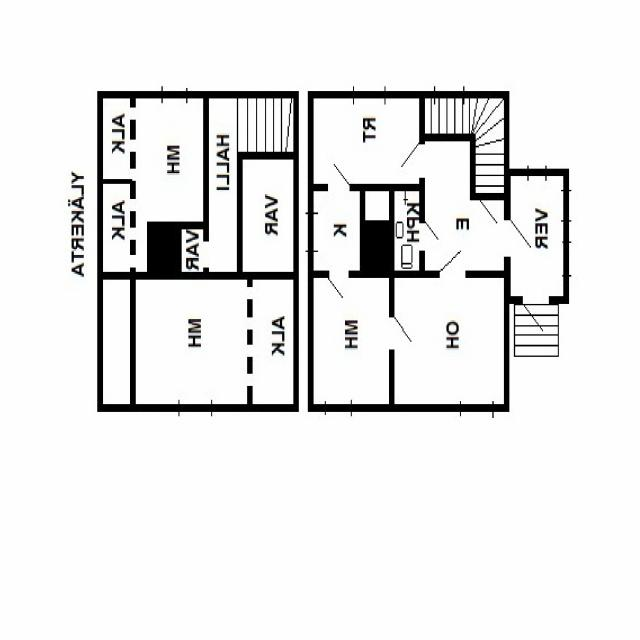door: (504, 220, 536, 257), (523, 296, 550, 339), (439, 235, 466, 278), (394, 142, 425, 178), (390, 317, 420, 350), (480, 193, 502, 231), (328, 155, 350, 191), (420, 222, 446, 250), (330, 270, 350, 304)
